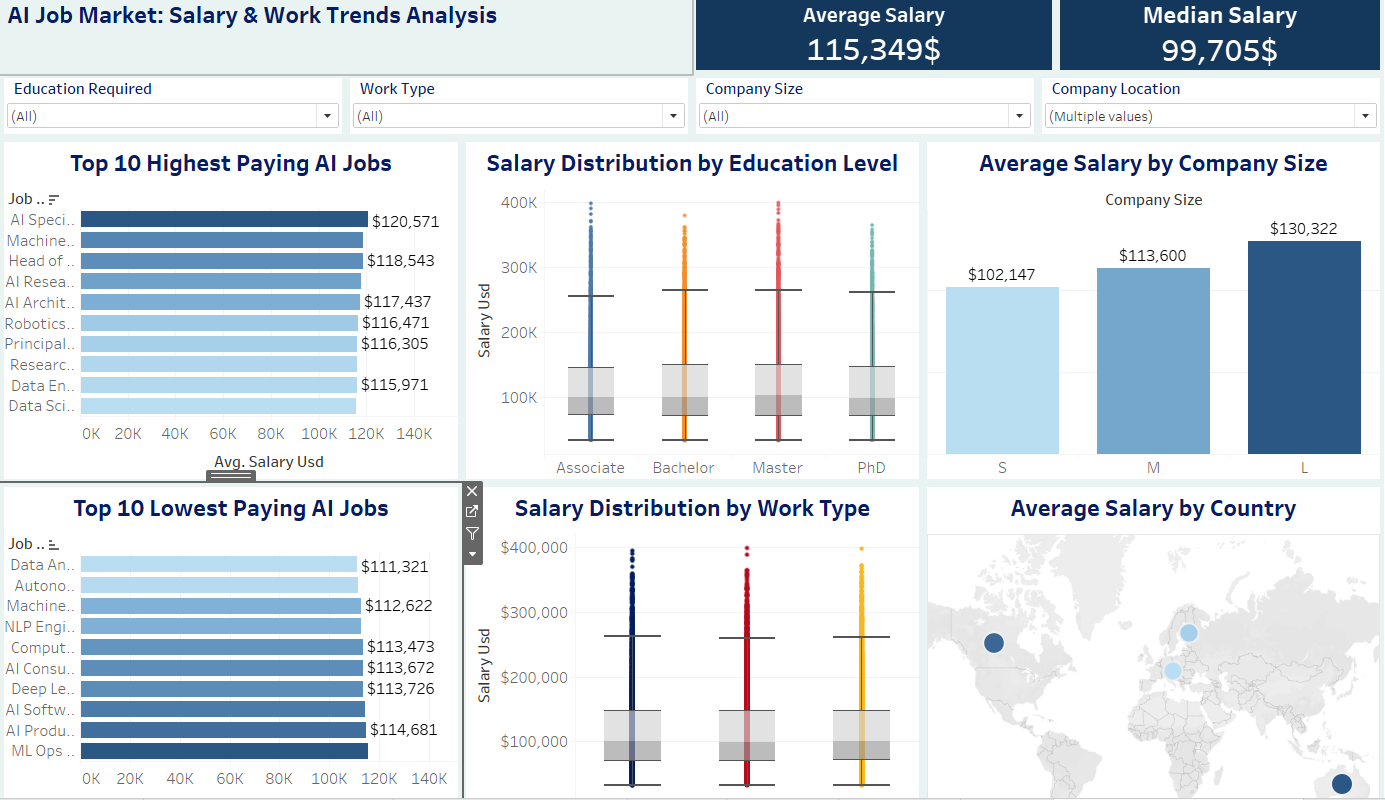

Layout of this report page (visuals, bound fields, positions):
{"tool":"tableau","page":{"name":"Dashboard 2: AI Job Market: Salary & Work Trends Analysis","canvas":[1400,850],"ordinal":1},"visuals":[{"type":"text","box":[8,8,692,80]},{"type":"worksheet","title":"Average Salary","mark":"Automatic","box":[700,8,364,80]},{"type":"worksheet","title":"Median Salary","mark":"Automatic","box":[1064,8,328,80]},{"type":"filter","title":"Salary Distribution by Education Level","param":"[federated.0dlpe1u12kej6a1gvai2e1lcgoy5].[none:education_required:nk]","box":[8,88,346,64]},{"type":"filter","title":"Salary Distribution by Work Type","param":"[federated.0dlpe1u12kej6a1gvai2e1lcgoy5].[none:Remote_Type:nk]","box":[354,88,346,64]},{"type":"filter","title":"Average Salary by Company Size","param":"[federated.0dlpe1u12kej6a1gvai2e1lcgoy5].[none:company_size:nk]","box":[700,88,346,64]},{"type":"filter","title":"Average Salary by Country","param":"[federated.0dlpe1u12kej6a1gvai2e1lcgoy5].[none:company_location:nk]","box":[1046,88,346,64]},{"type":"worksheet","title":"Top 10 Highest Paying AI Jobs","mark":"Automatic","rows":["job_title"],"cols":["salary_usd"],"box":[8,152,462,345]},{"type":"worksheet","title":"Salary Distribution by Education Level","mark":"Circle","rows":["salary_usd"],"cols":["education_required"],"box":[470,152,461,345]},{"type":"worksheet","title":"Average Salary by Company Size","mark":"Automatic","rows":["salary_usd"],"cols":["company_size"],"box":[931,152,461,345]},{"type":"worksheet","title":"Top 10 Lowest Paying AI Jobs","mark":"Automatic","rows":["job_title"],"cols":["salary_usd"],"box":[8,497,462,345]},{"type":"worksheet","title":"Salary Distribution by Work Type","mark":"Circle","rows":["salary_usd"],"cols":["Remote_Type"],"box":[470,497,461,345]},{"type":"worksheet","title":"Average Salary by Country","mark":"Automatic","box":[931,497,461,345]}]}

Visuals, with their boxes on the page's 1400x850 design canvas (x1, y1, x2, y2). These are canvas units, not pixel positions in the 1385x800 screenshot, which may show the page scaled, cropped or inside an application window:
text: (8,8,700,88)
"Average Salary" worksheet: (700,8,1064,88)
"Median Salary" worksheet: (1064,8,1392,88)
"Salary Distribution by Education Level" filter: (8,88,354,152)
"Salary Distribution by Work Type" filter: (354,88,700,152)
"Average Salary by Company Size" filter: (700,88,1046,152)
"Average Salary by Country" filter: (1046,88,1392,152)
"Top 10 Highest Paying AI Jobs" worksheet: (8,152,470,497)
"Salary Distribution by Education Level" worksheet (Circle marks): (470,152,931,497)
"Average Salary by Company Size" worksheet: (931,152,1392,497)
"Top 10 Lowest Paying AI Jobs" worksheet: (8,497,470,842)
"Salary Distribution by Work Type" worksheet (Circle marks): (470,497,931,842)
"Average Salary by Country" worksheet: (931,497,1392,842)
